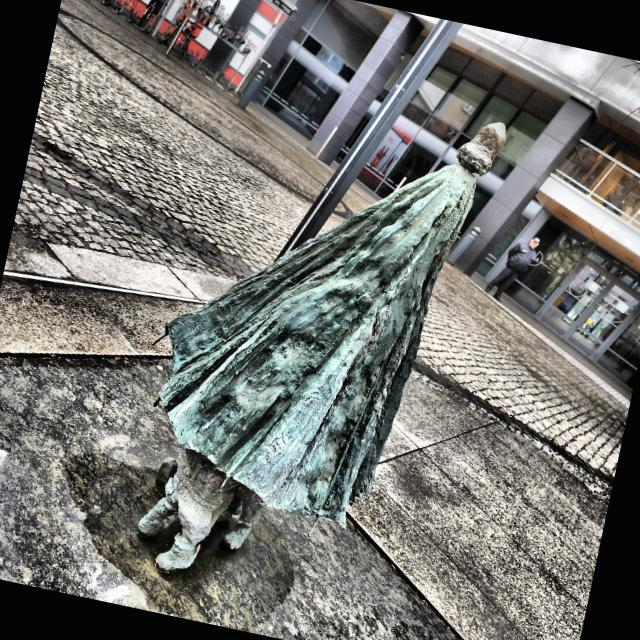Parasolniki: (136, 120, 506, 572)
